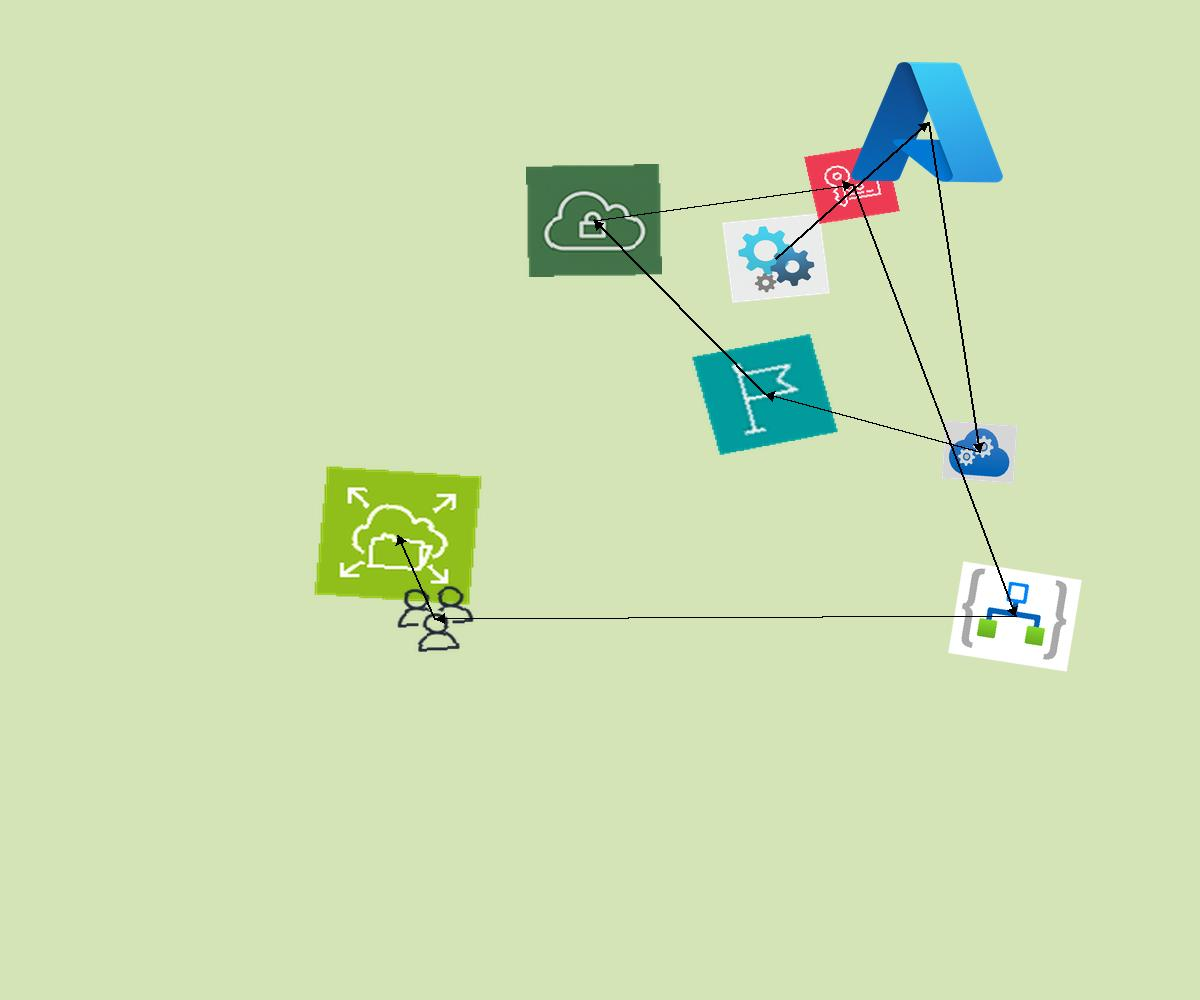AWS-EFS: (313, 465, 483, 606)
AWS-Key-Management-Service: (804, 144, 900, 224)
AWS-Private_vpc: (526, 164, 662, 277)
AWS-Region: (691, 333, 839, 456)
AWS-Res_Users: (391, 582, 480, 656)
Azure_api: (722, 213, 830, 303)
Azure_cloud_services: (941, 420, 1018, 484)
Azure_integration-204-Logic-Apps: (948, 561, 1082, 672)
Azure_services: (844, 52, 1012, 192)
